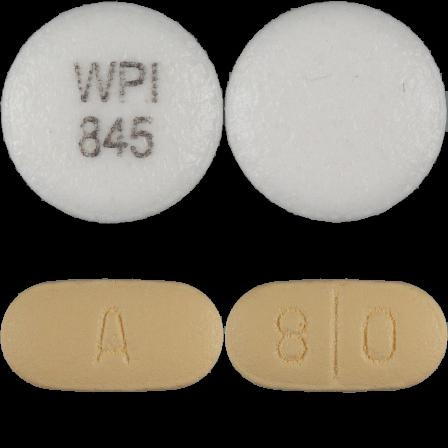68084-112: (0, 0, 224, 224)
